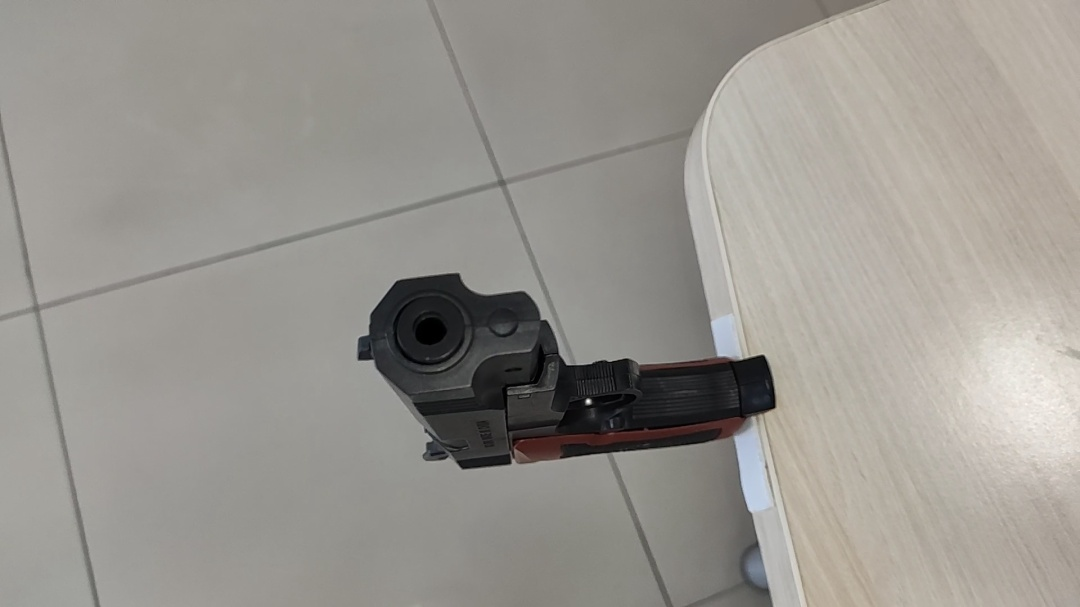gun: (360, 273, 776, 470)
